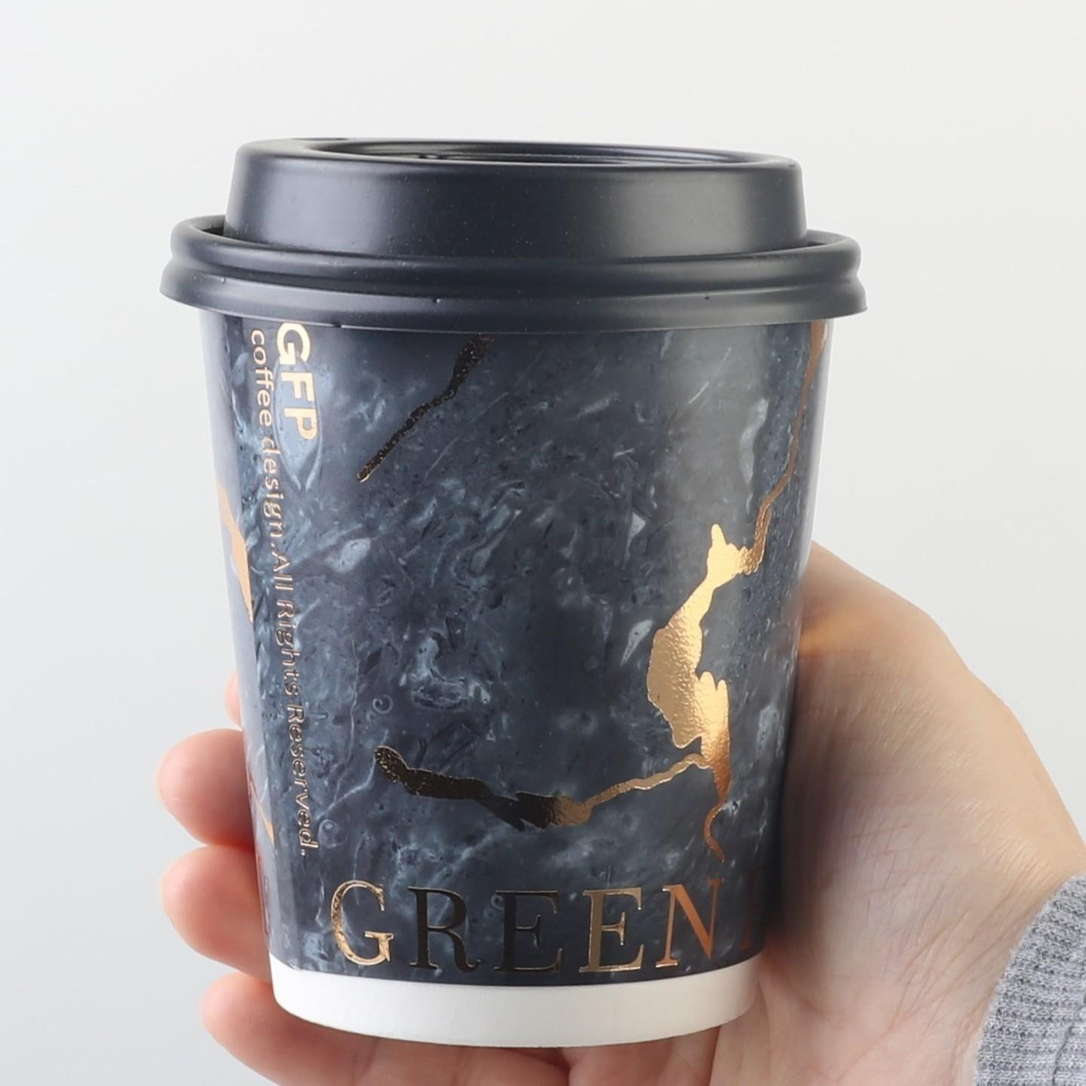cup-disposable: (155, 116, 888, 1071)
